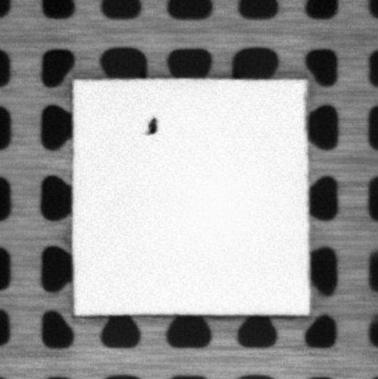DIE_INK: (145, 114, 160, 136)
